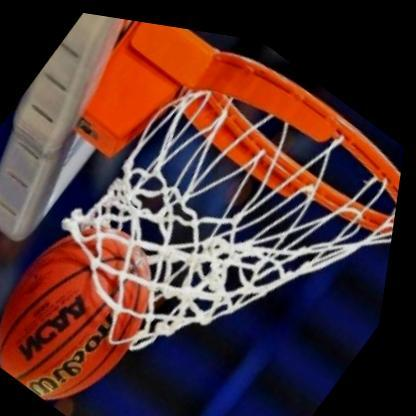basketball: (0, 175, 205, 416)
rim: (14, 7, 416, 416)
